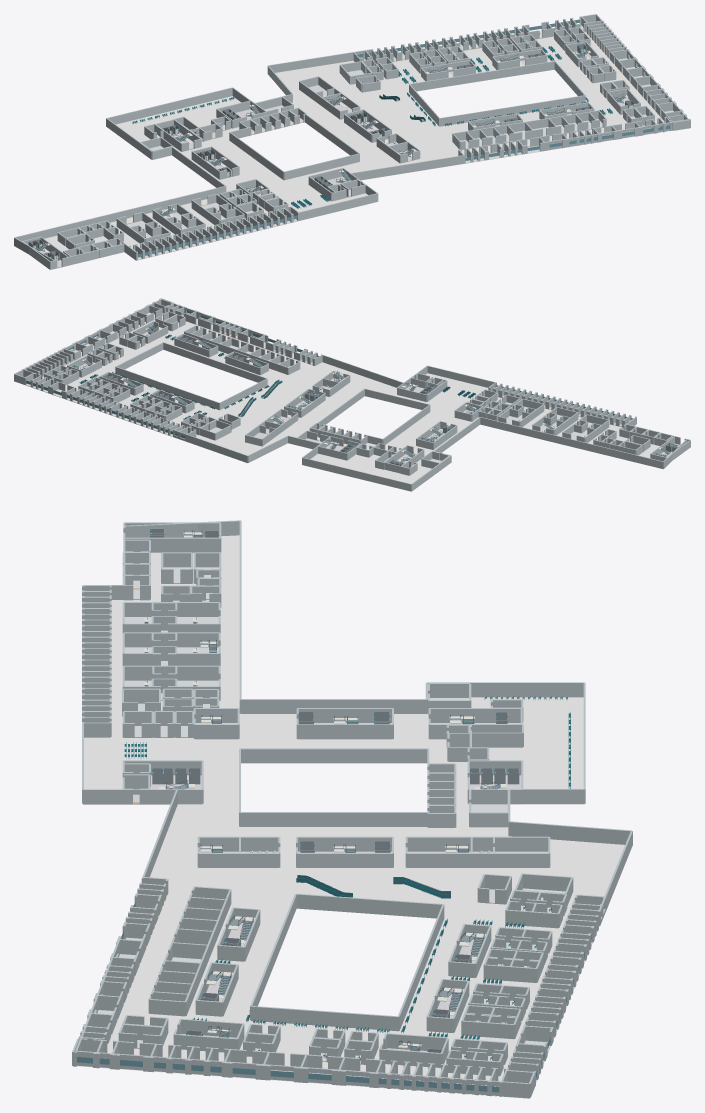
File: nanjing-F3.glb
3 renders of one model, top to bottom at view 1: azimuth 30°, elevation 25°; view 2: azimuth 150°, elevation 25°; view 3: azimuth 270°, elevation 25°, orthographic. The views are drawn at different scales.
Visible parts, largest first — view 1: Floor slab, wall-557, wall-630, wall-632, wall-561, wall-599, wall-565, wall-601, wall-642, wall-643, wall-641, wall-558 (+2 smaller); view 2: Floor slab, wall-557, wall-561, wall-632, wall-630, wall-599, wall-601, wall-565, wall-642, wall-633, wall-643, wall-641 (+4 smaller); view 3: Floor slab, wall-643, wall-641, wall-631, wall-633, wall-558, wall-670, wall-673, wall-560, wall-564, wall-650, wall-675 (+14 smaller).
Part boxes in pixels (x1=…): Floor slab: x1=44, y1=31, x2=664, y2=268; wall-557: x1=15, y1=186, x2=225, y2=241; wall-630: x1=409, y1=61, x2=554, y2=91; wall-632: x1=439, y1=95, x2=585, y2=126; wall-561: x1=106, y1=87, x2=232, y2=124; wall-599: x1=351, y1=155, x2=464, y2=180; wall-565: x1=268, y1=51, x2=355, y2=72; wall-601: x1=297, y1=193, x2=377, y2=220; wall-642: x1=284, y1=153, x2=359, y2=180; wall-643: x1=229, y1=132, x2=283, y2=180; wall-641: x1=305, y1=114, x2=359, y2=161; wall-558: x1=172, y1=146, x2=226, y2=191; Floor slab: x1=26, y1=315, x2=663, y2=491; wall-557: x1=480, y1=417, x2=663, y2=468; wall-561: x1=302, y1=457, x2=411, y2=491; wall-632: x1=163, y1=342, x2=267, y2=382; wall-630: x1=115, y1=367, x2=219, y2=410; wall-599: x1=321, y1=354, x2=403, y2=387; wall-601: x1=427, y1=365, x2=496, y2=387; wall-565: x1=185, y1=434, x2=247, y2=462; wall-642: x1=365, y1=388, x2=429, y2=409; wall-633: x1=219, y1=378, x2=267, y2=409; wall-643: x1=383, y1=404, x2=430, y2=444; wall-641: x1=318, y1=388, x2=364, y2=427; Floor slab: x1=83, y1=535, x2=624, y2=1098; wall-643: x1=240, y1=748, x2=428, y2=763; wall-641: x1=240, y1=812, x2=427, y2=826; wall-631: x1=251, y1=1006, x2=398, y2=1031; wall-633: x1=296, y1=893, x2=443, y2=918; wall-558: x1=240, y1=699, x2=426, y2=713; wall-670: x1=406, y1=853, x2=549, y2=867; wall-673: x1=406, y1=836, x2=549, y2=851; wall-560: x1=427, y1=682, x2=584, y2=697; wall-564: x1=509, y1=821, x2=631, y2=844; wall-650: x1=297, y1=724, x2=392, y2=739; wall-675: x1=297, y1=853, x2=392, y2=867.
Size of the model in its own units: 274 by 4.28 by 115.
